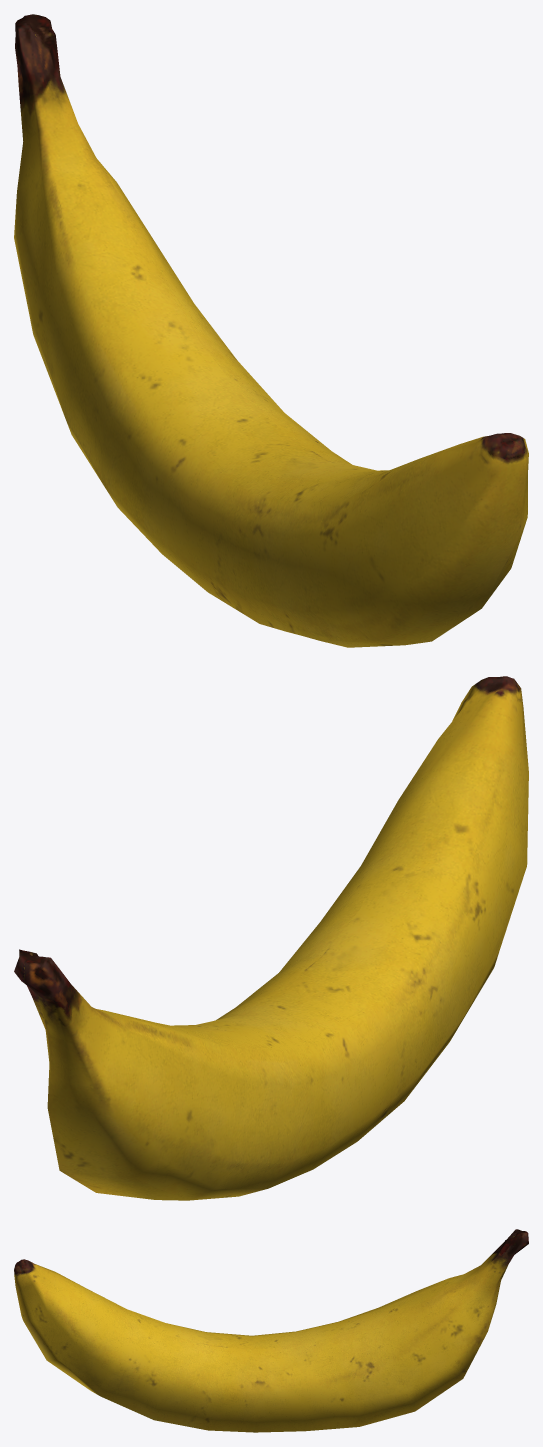
The model's file is Banana_lp.fbx.
3 renders of one model, top to bottom at view 1: azimuth 30°, elevation 25°; view 2: azimuth 150°, elevation 25°; view 3: azimuth 270°, elevation 25°, orthographic. The views are drawn at different scales.
Visible parts, largest first — view 1: Banana; view 2: Banana; view 3: Banana.
Boxes of the visible parts, x1=… form: Banana: x1=14, y1=14, x2=528, y2=647; Banana: x1=14, y1=676, x2=528, y2=1200; Banana: x1=14, y1=1229, x2=528, y2=1432.
Bounding box in the file's own units: 0.3572 × 0.8277 × 1.94.
